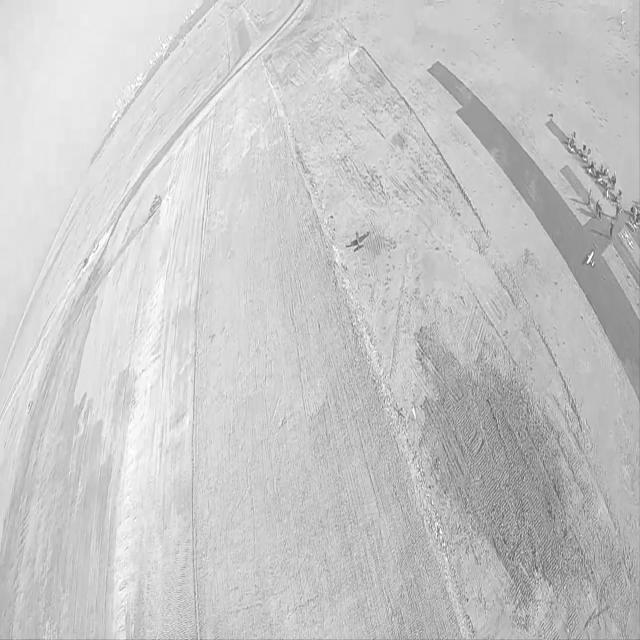iha: (344, 229, 372, 254), (584, 248, 597, 272)
